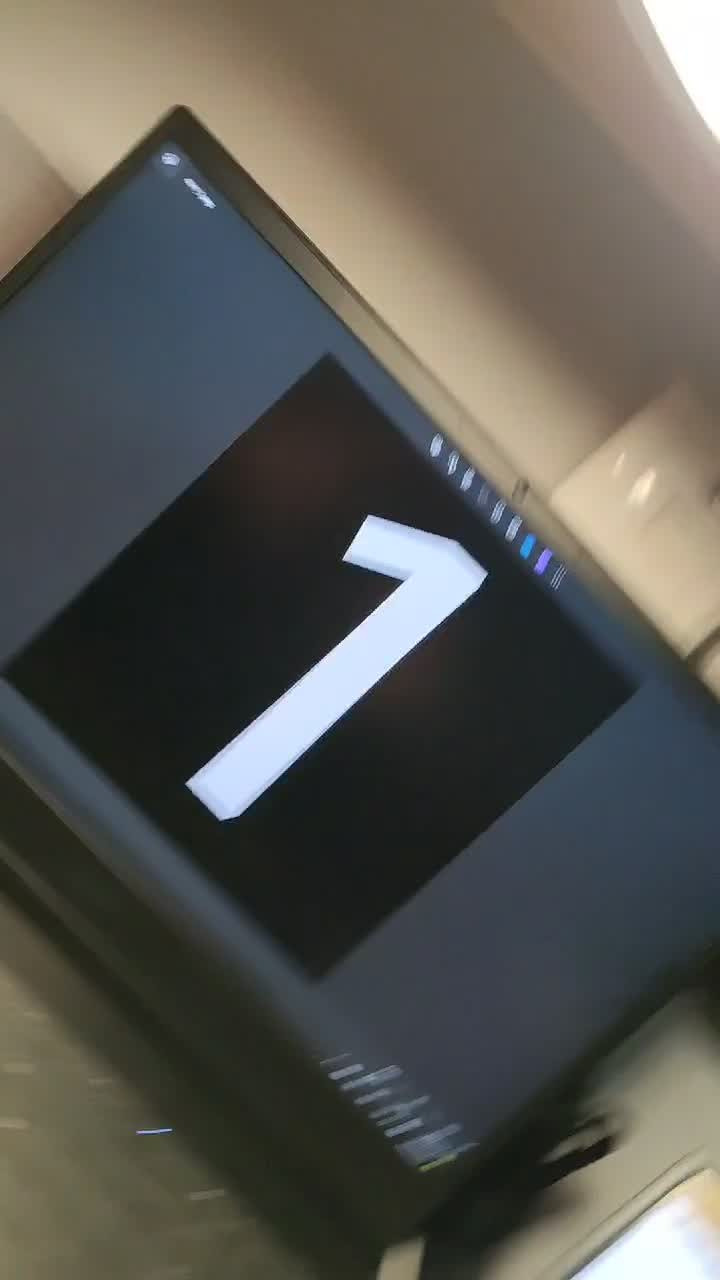one: (147, 446, 476, 934)
